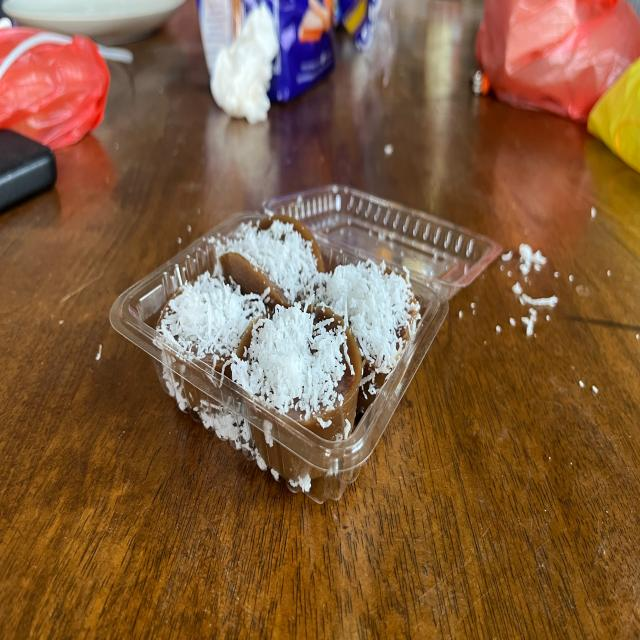Kuih lompang: (230, 302, 362, 440), (315, 260, 420, 411), (216, 213, 324, 309)
